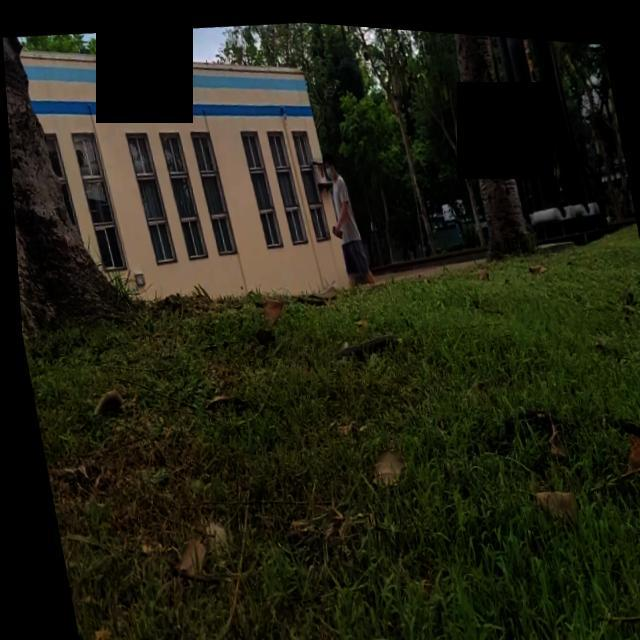Tree: (3, 29, 123, 333), (447, 27, 537, 257)
